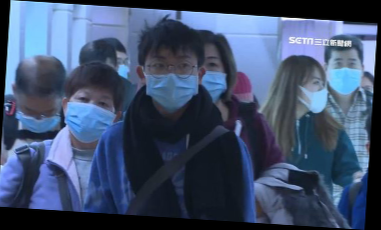with_mask: (140, 52, 198, 110), (64, 88, 117, 141), (324, 52, 363, 93), (14, 101, 61, 133), (200, 50, 228, 103), (298, 73, 329, 115)
